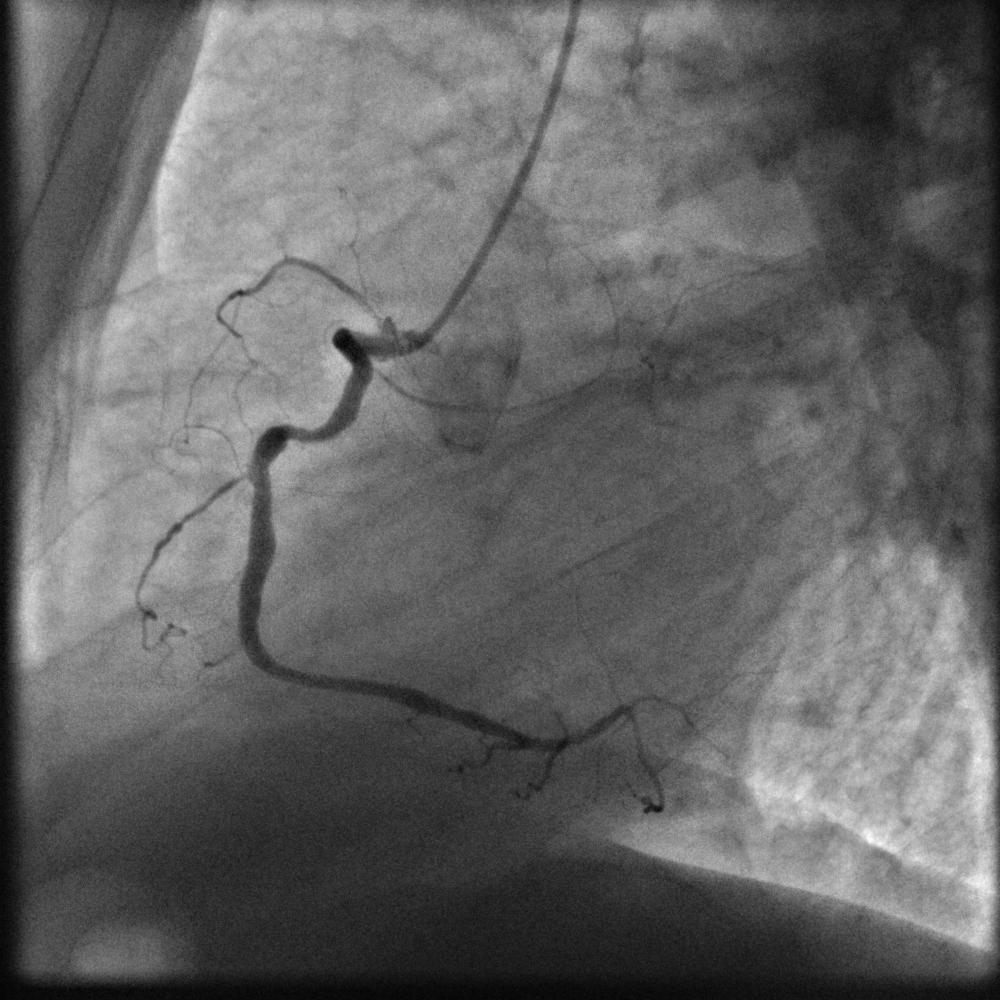Stenosis: (280, 421, 313, 445)
